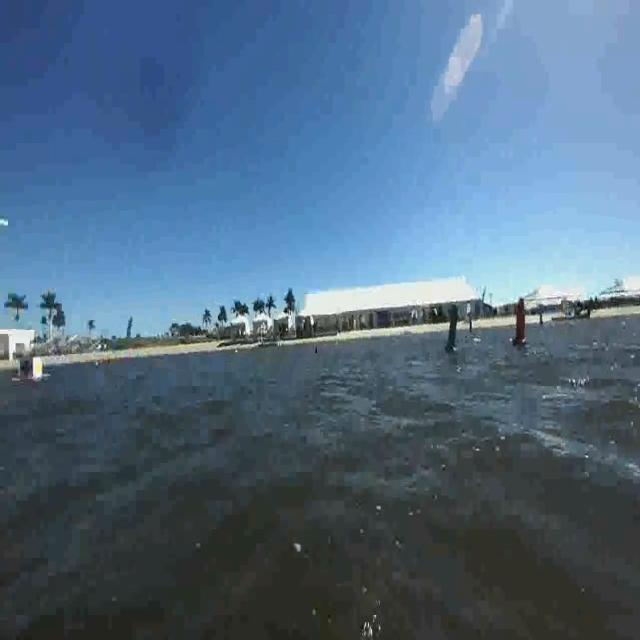green-column-buoy: (446, 303, 462, 352)
red-column-buoy: (512, 299, 530, 347)
